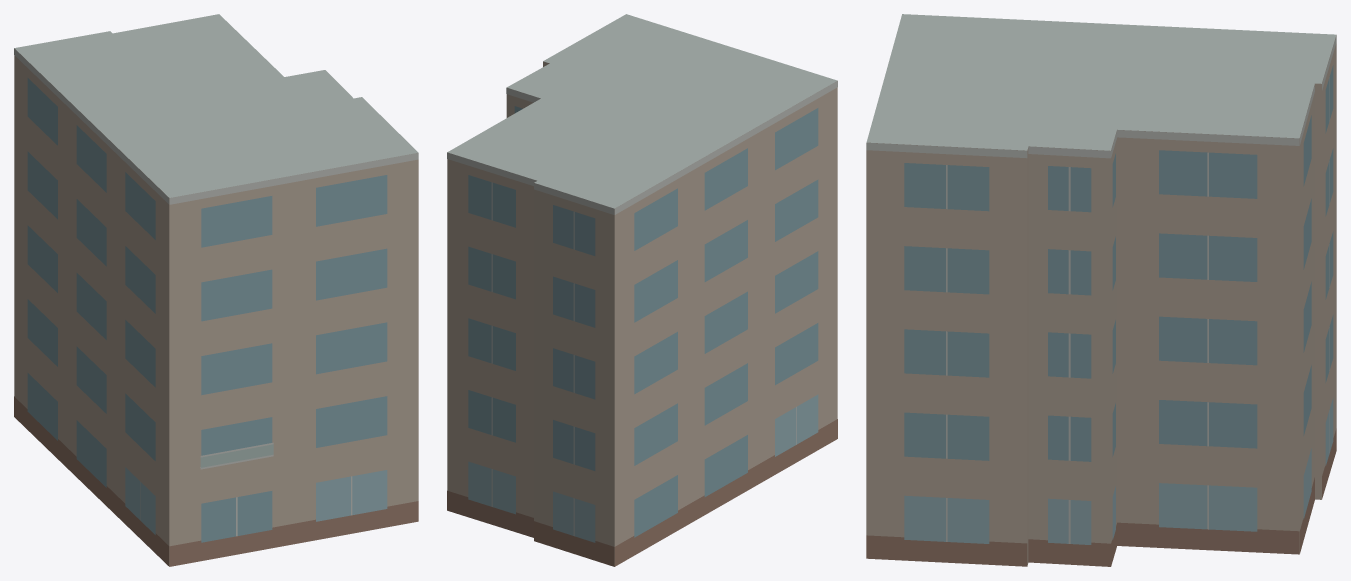
Rendered from survey-upis-32754084.glb.
3 views of the same model, side by side, from view 1: azimuth 30°, elevation 25°; view 2: azimuth 150°, elevation 25°; view 3: azimuth 270°, elevation 25° (orthographic). The views are drawn at different scales.
Parts seen in each view (by area): view 1: survey-upis-32754084.tmp; view 2: survey-upis-32754084.tmp; view 3: survey-upis-32754084.tmp.
Boxes of the visible parts, box(x1,y1,x2,y2) form: survey-upis-32754084.tmp: box(14, 14, 418, 566); survey-upis-32754084.tmp: box(447, 14, 837, 566); survey-upis-32754084.tmp: box(866, 14, 1336, 566).
Size of the model in its own units: 9.39 by 13.3 by 13.63.
